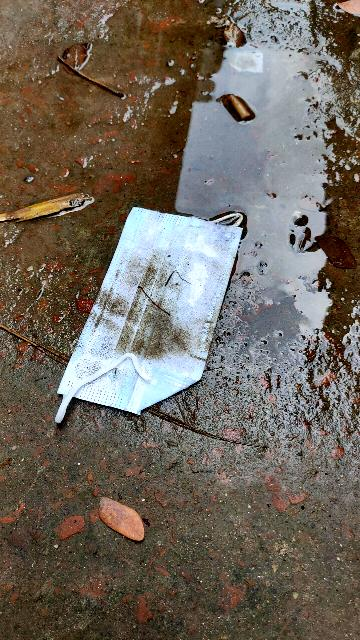mask: (47, 175, 262, 427)
